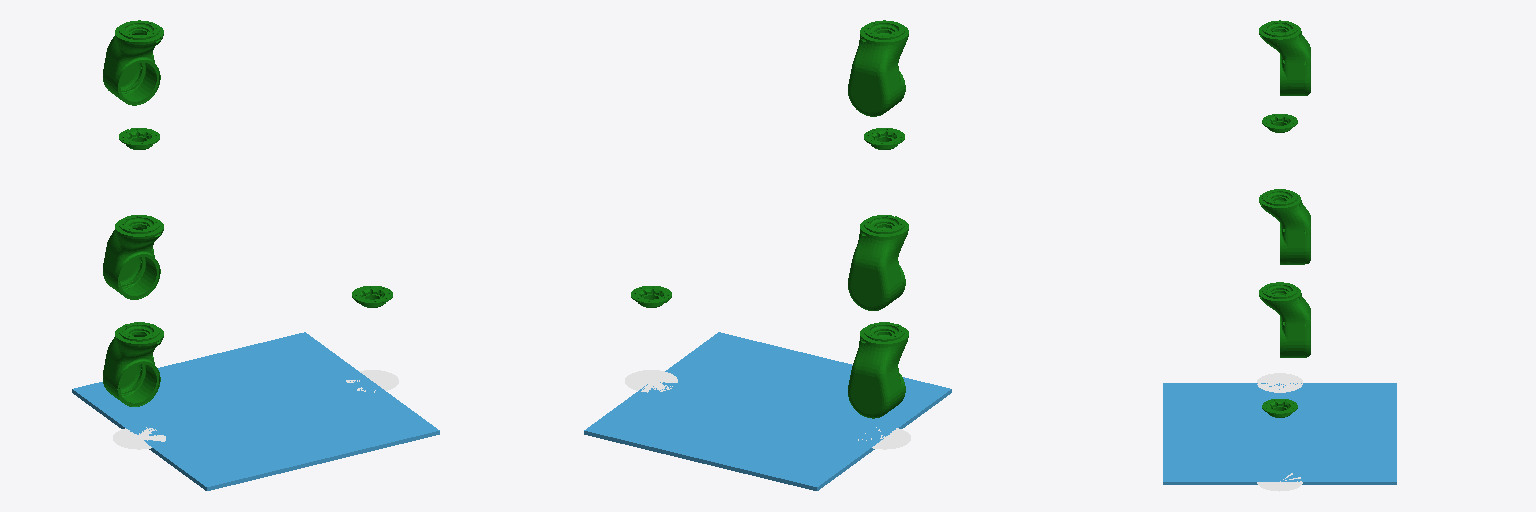
URDF robot description (ModularBot):
<?xml version="1.0" ?>
<!-- =================================================================================== -->
<!-- |    This document was autogenerated by xacro from [local-path]/MultiDoF-superbuild/external/modular/ModularBot/urdf/ModularBot.urdf.xacro | -->
<!-- |    EDITING THIS FILE BY HAND IS NOT RECOMMENDED                                 | -->
<!-- =================================================================================== -->
<robot name="ModularBot" xmlns:xacro="http://ros.org/wiki/xacro">
  <gazebo>
    <plugin filename="libGazeboXBotPlugin.so" name="gazebo_xbot_plugin">
      <path_to_config_file>configs/ADVR_shared/ModularBot/configs/config_ModularBot.yaml</path_to_config_file>
    </plugin>
  </gazebo>
  <material name="blue">
    <color rgba="0 0 0.8 1"/>
  </material>
  <material name="black">
    <color rgba="0 0 0 1"/>
  </material>
  <material name="white">
    <color rgba="1 1 1 1"/>
  </material>
  <material name="grey">
    <color rgba="0.5 0.5 0.5 1"/>
  </material>
  <material name="red">
    <color rgba="1 0 0 1"/>
  </material>
  <material name="green">
    <color rgba="0 1 0 1"/>
  </material>
  <material name="yellow">
    <color rgba="1 1 0 1"/>
  </material>
  <material name="tree_green">
    <color rgba="0.13 0.54 0.13 1"/>
  </material>
  <link name="base_link"/>
  <joint name="fixed_table" type="fixed">
    <axis rpy="0 0 0" xyz="0 0 1"/>
    <parent link="base_link"/>
    <child link="table"/>
    <origin rpy="0.0 -0.0 0.0" xyz="0.0 0.0 0.0"/>
  </joint>
  <link name="table">
    <visual>
      <origin rpy="0 0 0" xyz="0.3 0 -0.005"/>
      <geometry>
        <box size="0.6 0.6 0.01"/>
      </geometry>
      <material name="gray"/>
    </visual>
    <collision>
      <origin rpy="0 0 0" xyz="0.25 0 -0.005"/>
      <geometry>
        <box size="0.6 0.6 0.01"/>
      </geometry>
    </collision>
    <inertial>
      <origin rpy="0 0 0" xyz="0 0 0.00"/>
      <mass value="0.5"/>
      <inertia ixx="0.0006" ixy="0.0" ixz="0.0" iyy="0.0006" iyz="0.0" izz="0.0006"/>
    </inertial>
  </link>
  <link name="L_0_A">
    <visual>
      <origin rpy="0 0 0" xyz="0 0 0.0"/>
      <geometry>
        <cylinder length="0.0" radius="0.06"/>
      </geometry>
      <material name="white"/>
    </visual>
    <collision>
      <origin rpy="0 0 0" xyz="0 0 0.0"/>
      <geometry>
        <cylinder length="0.0" radius="0.06"/>
      </geometry>
    </collision>
    <inertial>
      <origin rpy="0 0 0" xyz="0 0 0.0"/>
      <mass value="0.5"/>
      <inertia ixx="0.00045" ixy="0.0" ixz="0.0" iyy="0.00045" iyz="0.0" izz="0.0009"/>
    </inertial>
  </link>
  <gazebo reference="L_0_A">
    <mu1>0.2</mu1>
    <mu2>0.2</mu2>
    <kp>1000000.0</kp>
    <kd>1.0</kd>
    <maxVel>0.0</maxVel>
    <minDepth>0.0001</minDepth>
    <material>Gazebo/White</material>
  </gazebo>
  <joint name="L_0_A_fixed_joint_0" type="fixed">
    <axis rpy="0 0 0" xyz="0 0 1"/>
    <parent link="table"/>
    <child link="L_0_A"/>
    <origin rpy="0.0 -0.0 0.0" xyz="0.0 0.0 0.0"/>
  </joint>
  <joint name="fixed_J1_A" type="fixed">
    <axis rpy="0 0 0" xyz="0 0 1"/>
    <parent link="L_0_A"/>
    <child link="J1_A_stator"/>
    <origin rpy="0.0 -0.0 0.0" xyz="0.0 0.0 0.0"/>
  </joint>
  <link name="J1_A_stator">
    <visual>
      <origin rpy="0.0 0.0 0.0" xyz="0.0 0.0 0.0"/>
      <geometry>
        <mesh filename="package://modular/meshes/elbow_base.stl" scale="0.001 0.001 0.001"/>
      </geometry>
      <material name="tree_green"/>
    </visual>
    <collision>
      <origin rpy="0.0 0.0 0.0" xyz="0.0 0.0 0.0"/>
      <geometry>
        <mesh filename="package://modular/meshes/simple/elbow_base.stl" scale="0.001 0.001 0.001"/>
      </geometry>
    </collision>
    <inertial>
      <origin rpy="0 0 0" xyz="0.0 -0.013666345 0.095904755"/>
      <mass value="1.8627994"/>
      <inertia ixx="0.0080669105" ixy="6.8780537e-06" ixz="2.4976943e-05" iyy="0.0069731259" iyz="0.00033158425" izz="0.0037855995"/>
    </inertial>
  </link>
  <gazebo reference="J1_A_stator">
    <mu1>0.2</mu1>
    <mu2>0.2</mu2>
    <kp>1000000.0</kp>
    <kd>1.0</kd>
    <maxVel>0.0</maxVel>
    <minDepth>0.0001</minDepth>
    <material>Gazebo/Blue</material>
  </gazebo>
  <joint name="J1_A" type="revolute">
    <axis rpy="0 0 0" xyz="0 0 1"/>
    <parent link="J1_A_stator"/>
    <child link="L_1_A"/>
    <origin rpy="-1.57 -0.0 0.0" xyz="0.0 0.0721499771235 0.132057454972"/>
    <limit effort="147" lower="-2.0" upper="2.0" velocity="3.9"/>
  </joint>
  <link name="L_1_A">
    <visual>
      <origin rpy="0.0 3.14 0.0" xyz="0.0 0.0 -0.072"/>
      <geometry>
        <mesh filename="package://modular/meshes/elbow_link.stl" scale="0.001 0.001 0.001"/>
      </geometry>
      <material name="tree_green"/>
    </visual>
    <collision>
      <origin rpy="0.0 3.14 0.0" xyz="0.0 0.0 -0.072"/>
      <geometry>
        <mesh filename="package://modular/meshes/simple/elbow_link.stl" scale="0.001 0.001 0.001"/>
      </geometry>
    </collision>
    <inertial>
      <origin rpy="0 0 0" xyz="0.0 -0.040608854 -0.038467625"/>
      <mass value="1.1036463"/>
      <inertia ixx="0.0048243291" ixy="6.7819559e-06" ixz="-3.6661875e-06" iyy="0.0024139151" iyz="-0.0010484708" izz="0.0049751925"/>
    </inertial>
  </link>
  <joint name="fixed_L_1_A_rotor_fast" type="fixed">
    <axis rpy="0 0 0" xyz="0 0 1"/>
    <parent link="L_1_A"/>
    <child link="L_1_A_rotor_fast"/>
    <origin rpy="0.0 -0.0 0.0" xyz="0.0 0.0 0.0"/>
  </joint>
  <link name="L_1_A_rotor_fast">
    <inertial>
      <origin rpy="0 0 0" xyz="0.0 0.0 -0.0978986"/>
      <mass value="0.197124"/>
      <inertia ixx="0.00016128216" ixy="-2.4229e-07" ixz="3.771218e-06" iyy="0.00016138868" iyz="-2.4900687e-06" izz="1.287638e-05"/>
    </inertial>
  </link>
  <joint name="fixed_J2_A" type="fixed">
    <axis rpy="0 0 0" xyz="0 0 1"/>
    <parent link="L_1_A"/>
    <child link="J2_A_stator"/>
    <origin rpy="1.57 -0.0 0.0" xyz="0.0 -0.131999958147 -0.0720448848742"/>
  </joint>
  <link name="J2_A_stator">
    <visual>
      <origin rpy="0.0 0.0 0.0" xyz="0.0 0.0 0.0"/>
      <geometry>
        <mesh filename="package://modular/meshes/elbow_base.stl" scale="0.001 0.001 0.001"/>
      </geometry>
      <material name="tree_green"/>
    </visual>
    <collision>
      <origin rpy="0.0 0.0 0.0" xyz="0.0 0.0 0.0"/>
      <geometry>
        <mesh filename="package://modular/meshes/simple/elbow_base.stl" scale="0.001 0.001 0.001"/>
      </geometry>
    </collision>
    <inertial>
      <origin rpy="0 0 0" xyz="0.0 -0.013666345 0.095904755"/>
      <mass value="1.8627994"/>
      <inertia ixx="0.0080669105" ixy="6.8780537e-06" ixz="2.4976943e-05" iyy="0.0069731259" iyz="0.00033158425" izz="0.0037855995"/>
    </inertial>
  </link>
  <gazebo reference="J2_A_stator">
    <mu1>0.2</mu1>
    <mu2>0.2</mu2>
    <kp>1000000.0</kp>
    <kd>1.0</kd>
    <maxVel>0.0</maxVel>
    <minDepth>0.0001</minDepth>
    <material>Gazebo/Blue</material>
  </gazebo>
  <joint name="J2_A" type="revolute">
    <axis rpy="0 0 0" xyz="0 0 1"/>
    <parent link="J2_A_stator"/>
    <child link="L_2_A"/>
    <origin rpy="-1.57 -0.0 0.0" xyz="0.0 0.0721499771235 0.132057454972"/>
    <limit effort="147" lower="-2.0" upper="2.0" velocity="3.9"/>
  </joint>
  <link name="L_2_A">
    <visual>
      <origin rpy="0.0 3.14 0.0" xyz="0.0 0.0 -0.072"/>
      <geometry>
        <mesh filename="package://modular/meshes/elbow_link.stl" scale="0.001 0.001 0.001"/>
      </geometry>
      <material name="tree_green"/>
    </visual>
    <collision>
      <origin rpy="0.0 3.14 0.0" xyz="0.0 0.0 -0.072"/>
      <geometry>
        <mesh filename="package://modular/meshes/simple/elbow_link.stl" scale="0.001 0.001 0.001"/>
      </geometry>
    </collision>
    <inertial>
      <origin rpy="0 0 0" xyz="0.0 -0.040608854 -0.038467625"/>
      <mass value="1.1036463"/>
      <inertia ixx="0.0048243291" ixy="6.7819559e-06" ixz="-3.6661875e-06" iyy="0.0024139151" iyz="-0.0010484708" izz="0.0049751925"/>
    </inertial>
  </link>
  <joint name="fixed_L_2_A_rotor_fast" type="fixed">
    <axis rpy="0 0 0" xyz="0 0 1"/>
    <parent link="L_2_A"/>
    <child link="L_2_A_rotor_fast"/>
    <origin rpy="0 0 0" xyz="0 0 0"/>
  </joint>
  <link name="L_2_A_rotor_fast">
    <inertial>
      <origin rpy="0 0 0" xyz="0.0 0.0 -0.0978986"/>
      <mass value="0.197124"/>
      <inertia ixx="0.00016128216" ixy="-2.4229e-07" ixz="3.771218e-06" iyy="0.00016138868" iyz="-2.4900687e-06" izz="1.287638e-05"/>
    </inertial>
  </link>
  <joint name="fixed_J3_A" type="fixed">
    <axis rpy="0 0 0" xyz="0 0 1"/>
    <parent link="L_2_A"/>
    <child link="J3_A_stator"/>
    <origin rpy="1.57 -0.0 0.0" xyz="0.0 -0.131999958147 -0.0720448848742"/>
  </joint>
  <link name="J3_A_stator">
    <visual>
      <origin rpy="0.0 0.0 0.0" xyz="0.0 0.0 0.0"/>
      <geometry>
        <mesh filename="package://modular/meshes/yaw_base.stl" scale="0.001 0.001 0.001"/>
      </geometry>
      <material name="tree_green"/>
    </visual>
    <collision>
      <origin rpy="0.0 0.0 0.0" xyz="0.0 0.0 0.0"/>
      <geometry>
        <mesh filename="package://modular/meshes/simple/yaw_base.stl" scale="0.001 0.001 0.001"/>
      </geometry>
    </collision>
    <inertial>
      <origin rpy="0 0 0" xyz="0.0 0.0 0.10614489"/>
      <mass value="2.0554934"/>
      <inertia ixx="0.01068855" ixy="-1.14168e-05" ixz="2.71689e-06" iyy="0.010584907" iyz="8.76312e-05" izz="0.0032026258"/>
    </inertial>
  </link>
  <gazebo reference="J3_A_stator">
    <mu1>0.2</mu1>
    <mu2>0.2</mu2>
    <kp>1000000.0</kp>
    <kd>1.0</kd>
    <maxVel>0.0</maxVel>
    <minDepth>0.0001</minDepth>
    <material>Gazebo/Blue</material>
  </gazebo>
  <joint name="J3_A" type="revolute">
    <axis rpy="0 0 0" xyz="0 0 1"/>
    <parent link="J3_A_stator"/>
    <child link="L_3_A"/>
    <origin rpy="0.0 -0.0 0.0" xyz="0.0 0.0 0.214"/>
    <limit effort="147" lower="-2.8" upper="2.8" velocity="3.9"/>
  </joint>
  <link name="L_3_A">
    <visual>
      <origin rpy="0.0 0.0 0.0" xyz="0.0 0.0 0.0"/>
      <geometry>
        <mesh filename="package://modular/meshes/yaw_link.stl" scale="0.001 0.001 0.001"/>
      </geometry>
      <material name="tree_green"/>
    </visual>
    <collision>
      <origin rpy="0.0 0.0 0.0" xyz="0.0 0.0 0.0"/>
      <geometry>
        <mesh filename="package://modular/meshes/simple/yaw_link.stl" scale="0.001 0.001 0.001"/>
      </geometry>
    </collision>
    <inertial>
      <origin rpy="0 0 0" xyz="0.0 0.0 -0.024438213"/>
      <mass value="0.42322395"/>
      <inertia ixx="0.00063746146" ixy="1.1903424e-05" ixz="6.7230372e-07" iyy="0.00064218987" iyz="2.203073e-05" izz="0.001009674"/>
    </inertial>
  </link>
  <joint name="fixed_L_3_A_rotor_fast" type="fixed">
    <axis rpy="0 0 0" xyz="0 0 1"/>
    <parent link="L_3_A"/>
    <child link="L_3_A_rotor_fast"/>
    <origin rpy="0 0 0" xyz="0 0 0"/>
  </joint>
  <link name="L_3_A_rotor_fast">
    <inertial>
      <origin rpy="0 0 0" xyz="0.0 0.0 -0.0978986"/>
      <mass value="0.197124"/>
      <inertia ixx="0.00016128216" ixy="-2.4229e-07" ixz="3.771218e-06" iyy="0.00016138868" iyz="-2.4900687e-06" izz="1.287638e-05"/>
    </inertial>
  </link>
  <joint name="fixed_J4_A" type="fixed">
    <axis rpy="0 0 0" xyz="0 0 1"/>
    <parent link="L_3_A"/>
    <child link="J4_A_stator"/>
    <origin rpy="0.0 -0.0 0.0" xyz="0.0 0.0 0.0"/>
  </joint>
  <link name="J4_A_stator">
    <visual>
      <origin rpy="0.0 0.0 0.0" xyz="0.0 0.0 0.0"/>
      <geometry>
        <mesh filename="package://modular/meshes/elbow_base.stl" scale="0.001 0.001 0.001"/>
      </geometry>
      <material name="tree_green"/>
    </visual>
    <collision>
      <origin rpy="0.0 0.0 0.0" xyz="0.0 0.0 0.0"/>
      <geometry>
        <mesh filename="package://modular/meshes/simple/elbow_base.stl" scale="0.001 0.001 0.001"/>
      </geometry>
    </collision>
    <inertial>
      <origin rpy="0 0 0" xyz="0.0 -0.013666345 0.095904755"/>
      <mass value="1.8627994"/>
      <inertia ixx="0.0080669105" ixy="6.8780537e-06" ixz="2.4976943e-05" iyy="0.0069731259" iyz="0.00033158425" izz="0.0037855995"/>
    </inertial>
  </link>
  <gazebo reference="J4_A_stator">
    <mu1>0.2</mu1>
    <mu2>0.2</mu2>
    <kp>1000000.0</kp>
    <kd>1.0</kd>
    <maxVel>0.0</maxVel>
    <minDepth>0.0001</minDepth>
    <material>Gazebo/Blue</material>
  </gazebo>
  <joint name="J4_A" type="revolute">
    <axis rpy="0 0 0" xyz="0 0 1"/>
    <parent link="J4_A_stator"/>
    <child link="L_4_A"/>
    <origin rpy="-1.57 -0.0 0.0" xyz="0.0 0.0721499771235 0.132057454972"/>
    <limit effort="147" lower="-2.0" upper="2.0" velocity="3.9"/>
  </joint>
  <link name="L_4_A">
    <visual>
      <origin rpy="0.0 3.14 0.0" xyz="0.0 0.0 -0.072"/>
      <geometry>
        <mesh filename="package://modular/meshes/elbow_link.stl" scale="0.001 0.001 0.001"/>
      </geometry>
      <material name="tree_green"/>
    </visual>
    <collision>
      <origin rpy="0.0 3.14 0.0" xyz="0.0 0.0 -0.072"/>
      <geometry>
        <mesh filename="package://modular/meshes/simple/elbow_link.stl" scale="0.001 0.001 0.001"/>
      </geometry>
    </collision>
    <inertial>
      <origin rpy="0 0 0" xyz="0.0 -0.040608854 -0.038467625"/>
      <mass value="1.1036463"/>
      <inertia ixx="0.0048243291" ixy="6.7819559e-06" ixz="-3.6661875e-06" iyy="0.0024139151" iyz="-0.0010484708" izz="0.0049751925"/>
    </inertial>
  </link>
  <joint name="fixed_L_4_A_rotor_fast" type="fixed">
    <axis rpy="0 0 0" xyz="0 0 1"/>
    <parent link="L_4_A"/>
    <child link="L_4_A_rotor_fast"/>
    <origin rpy="0 0 0" xyz="0 0 0"/>
  </joint>
  <link name="L_4_A_rotor_fast">
    <inertial>
      <origin rpy="0 0 0" xyz="0.0 0.0 -0.0978986"/>
      <mass value="0.197124"/>
      <inertia ixx="0.00016128216" ixy="-2.4229e-07" ixz="3.771218e-06" iyy="0.00016138868" iyz="-2.4900687e-06" izz="1.287638e-05"/>
    </inertial>
  </link>
  <link name="ee_A">
    <inertial>
      <origin rpy="0 0 0" xyz="0 0 0.0945"/>
      <mass value="0.848"/>
      <inertia ixx="1.1564566e-03" ixy="0.0" ixz="0.0" iyy="1.2469918e-03" iyz="0.0" izz="5.7388903e-04"/>
    </inertial>
  </link>
  <joint name="L_4_fixed_joint_0_A" type="fixed">
    <axis rpy="0 0 0" xyz="0 0 1"/>
    <parent link="L_4_A"/>
    <child link="ee_A"/>
    <origin rpy="1.57 -0.0 0.0" xyz="0.0 -0.320999898221 -0.0718943791259"/>
  </joint>
  <link name="L_0_B">
    <visual>
      <origin rpy="0 0 0" xyz="0 0 0.0"/>
      <geometry>
        <cylinder length="0.0" radius="0.06"/>
      </geometry>
      <material name="white"/>
    </visual>
    <collision>
      <origin rpy="0 0 0" xyz="0 0 0.0"/>
      <geometry>
        <cylinder length="0.0" radius="0.06"/>
      </geometry>
    </collision>
    <inertial>
      <origin rpy="0 0 0" xyz="0 0 0.0"/>
      <mass value="0.5"/>
      <inertia ixx="0.00045" ixy="0.0" ixz="0.0" iyy="0.00045" iyz="0.0" izz="0.0009"/>
    </inertial>
  </link>
  <gazebo reference="L_0_B">
    <mu1>0.2</mu1>
    <mu2>0.2</mu2>
    <kp>1000000.0</kp>
    <kd>1.0</kd>
    <maxVel>0.0</maxVel>
    <minDepth>0.0001</minDepth>
    <material>Gazebo/White</material>
  </gazebo>
  <joint name="L_0_B_fixed_joint_0" type="fixed">
    <axis rpy="0 0 0" xyz="0 0 1"/>
    <parent link="table"/>
    <child link="L_0_B"/>
    <origin rpy="0.0 -0.0 3.14" xyz="0.6 0.0 0.0"/>
  </joint>
  <joint name="fixed_J1_B" type="fixed">
    <axis rpy="0 0 0" xyz="0 0 1"/>
    <parent link="L_0_B"/>
    <child link="J1_B_stator"/>
    <origin rpy="0.0 -0.0 0.0" xyz="0.0 0.0 0.0"/>
  </joint>
  <link name="J1_B_stator">
    <visual>
      <origin rpy="0.0 0.0 0.0" xyz="0.0 0.0 0.0"/>
      <geometry>
        <mesh filename="package://modular/meshes/yaw_base.stl" scale="0.001 0.001 0.001"/>
      </geometry>
      <material name="tree_green"/>
    </visual>
    <collision>
      <origin rpy="0.0 0.0 0.0" xyz="0.0 0.0 0.0"/>
      <geometry>
        <mesh filename="package://modular/meshes/simple/yaw_base.stl" scale="0.001 0.001 0.001"/>
      </geometry>
    </collision>
    <inertial>
      <origin rpy="0 0 0" xyz="0.0 0.0 0.10614489"/>
      <mass value="2.0554934"/>
      <inertia ixx="0.01068855" ixy="-1.14168e-05" ixz="2.71689e-06" iyy="0.010584907" iyz="8.76312e-05" izz="0.0032026258"/>
    </inertial>
  </link>
  <gazebo reference="J1_B_stator">
    <mu1>0.2</mu1>
    <mu2>0.2</mu2>
    <kp>1000000.0</kp>
    <kd>1.0</kd>
    <maxVel>0.0</maxVel>
    <minDepth>0.0001</minDepth>
    <material>Gazebo/Blue</material>
  </gazebo>
  <joint name="J1_B" type="revolute">
    <axis rpy="0 0 0" xyz="0 0 1"/>
    <parent link="J1_B_stator"/>
    <child link="L_1_B"/>
    <origin rpy="0.0 -0.0 0.0" xyz="0.0 0.0 0.214"/>
    <limit effort="147" lower="-2.8" upper="2.8" velocity="3.9"/>
  </joint>
  <link name="L_1_B">
    <visual>
      <origin rpy="0.0 0.0 0.0" xyz="0.0 0.0 0.0"/>
      <geometry>
        <mesh filename="package://modular/meshes/yaw_link.stl" scale="0.001 0.001 0.001"/>
      </geometry>
      <material name="tree_green"/>
    </visual>
    <collision>
      <origin rpy="0.0 0.0 0.0" xyz="0.0 0.0 0.0"/>
      <geometry>
        <mesh filename="package://modular/meshes/simple/yaw_link.stl" scale="0.001 0.001 0.001"/>
      </geometry>
    </collision>
    <inertial>
      <origin rpy="0 0 0" xyz="0.0 0.0 -0.024438213"/>
      <mass value="0.42322395"/>
      <inertia ixx="0.00063746146" ixy="1.1903424e-05" ixz="6.7230372e-07" iyy="0.00064218987" iyz="2.203073e-05" izz="0.001009674"/>
    </inertial>
  </link>
  <joint name="fixed_L_1_B_rotor_fast" type="fixed">
    <axis rpy="0 0 0" xyz="0 0 1"/>
    <parent link="L_1_B"/>
    <child link="L_1_B_rotor_fast"/>
    <origin rpy="0.0 -0.0 0.0" xyz="0.0 0.0 0.0"/>
  </joint>
  <link name="L_1_B_rotor_fast">
    <inertial>
      <origin rpy="0 0 0" xyz="0.0 0.0 -0.0978986"/>
      <mass value="0.197124"/>
      <inertia ixx="0.00016128216" ixy="-2.4229e-07" ixz="3.771218e-06" iyy="0.00016138868" iyz="-2.4900687e-06" izz="1.287638e-05"/>
    </inertial>
  </link>
  <link name="ee_B">
    <inertial>
      <origin rpy="0 0 0" xyz="0 0 0.0375"/>
      <mass value="0.848"/>
      <inertia ixx="1.1564566e-03" ixy="0.0" ixz="0.0" iyy="1.2469918e-03" iyz="0.0" izz="5.7388903e-04"/>
    </inertial>
  </link>
  <joint name="L_1_fixed_joint_0_B" type="fixed">
    <axis rpy="0 0 0" xyz="0 0 1"/>
    <parent link="L_1_B"/>
    <child link="ee_B"/>
    <origin rpy="0.0 -0.0 0.0" xyz="0.0 0.0 0.075"/>
  </joint>
</robot>

--- Facts derived from the render (not from the file) ---
The picture shows the robot from 3 angles, left to right: view 1: azimuth 30°, elevation 25°; view 2: azimuth 150°, elevation 25°; view 3: azimuth 270°, elevation 25°; orthographic projection.
Robot: ModularBot — 21 links, 20 joints (5 revolute, 15 fixed); root link base_link; default pose: all joints at 0.
Visible links, largest first — view 1: table, L_1_A, L_4_A, L_2_A, L_1_B, L_0_A, L_3_A, L_0_B; view 2: table, L_1_A, L_2_A, L_4_A, L_0_B, L_3_A, L_1_B; view 3: table, L_2_A, L_1_A, L_4_A, L_0_A, L_1_B, L_3_A.
Boxes of the visible links, x1,y1,x2,y2 form: table: (72,332,439,490); L_1_A: (103,322,163,406); L_4_A: (103,20,163,105); L_2_A: (103,215,163,299); L_1_B: (352,286,392,307); L_0_A: (113,427,165,449); L_3_A: (119,128,159,149); L_0_B: (346,370,398,392); table: (584,332,951,490); L_1_A: (848,322,908,418); L_2_A: (848,215,908,310); L_4_A: (848,20,908,116); L_0_B: (625,370,677,392); L_3_A: (864,128,904,149); L_1_B: (631,286,671,307); table: (1163,383,1396,484); L_2_A: (1259,189,1310,264); L_1_A: (1259,282,1310,357); L_4_A: (1259,20,1310,95); L_0_A: (1257,373,1302,392); L_1_B: (1262,399,1297,417); L_3_A: (1262,114,1297,132).
Bounding box of the posed robot: 0.72 × 0.6 × 1.02 m (x, y, z).
5 mesh visuals loaded from 4 distinct referenced files (2 binary STL); not drawn: 5 (reference not matched to a file when rendering).